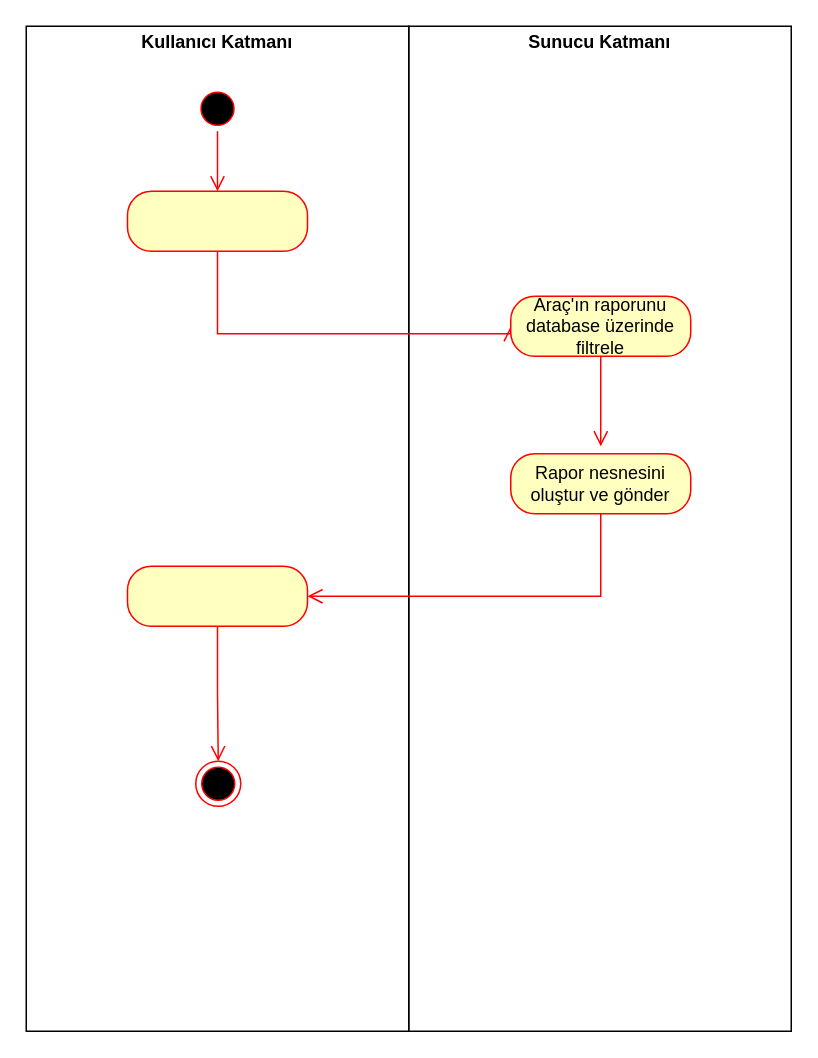
The diagram is 818 pixels wide and 1058 high, and some of its shapes have lost their labels. The shapes that lost their labels are listed below. From the top down, each one's centre as x and y in pixels, then its label:
point (217, 220): Araç İçin Rapor İste
point (217, 595): Raporu ekranda göster
